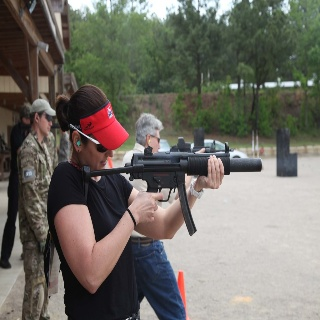rifle: (80, 141, 263, 237)
